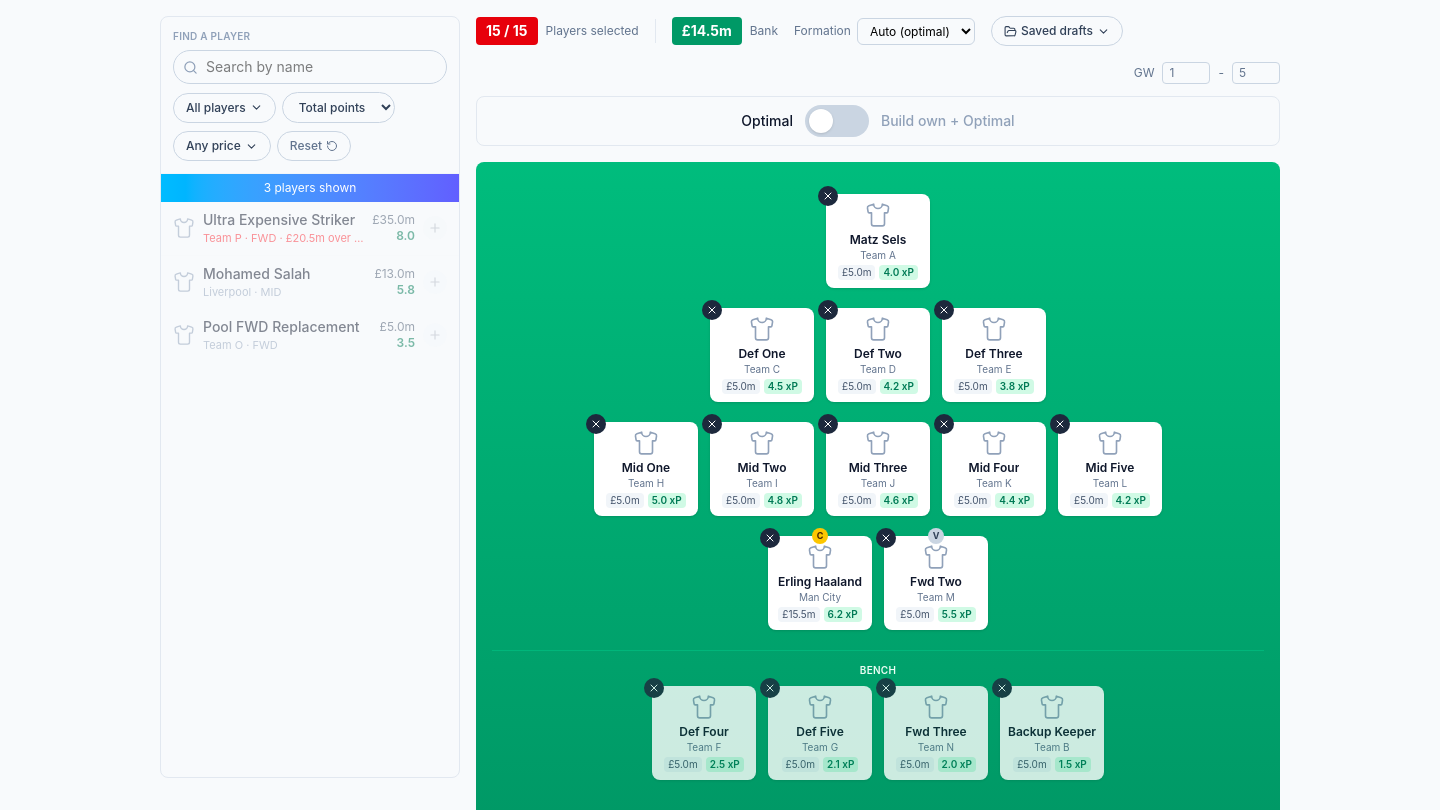
Test: SquadBuilder › removing a player empties that slot and shows a notification
Click the button named "Remove Erling Haaland".
click(770, 538)  # box [760, 528, 780, 548]
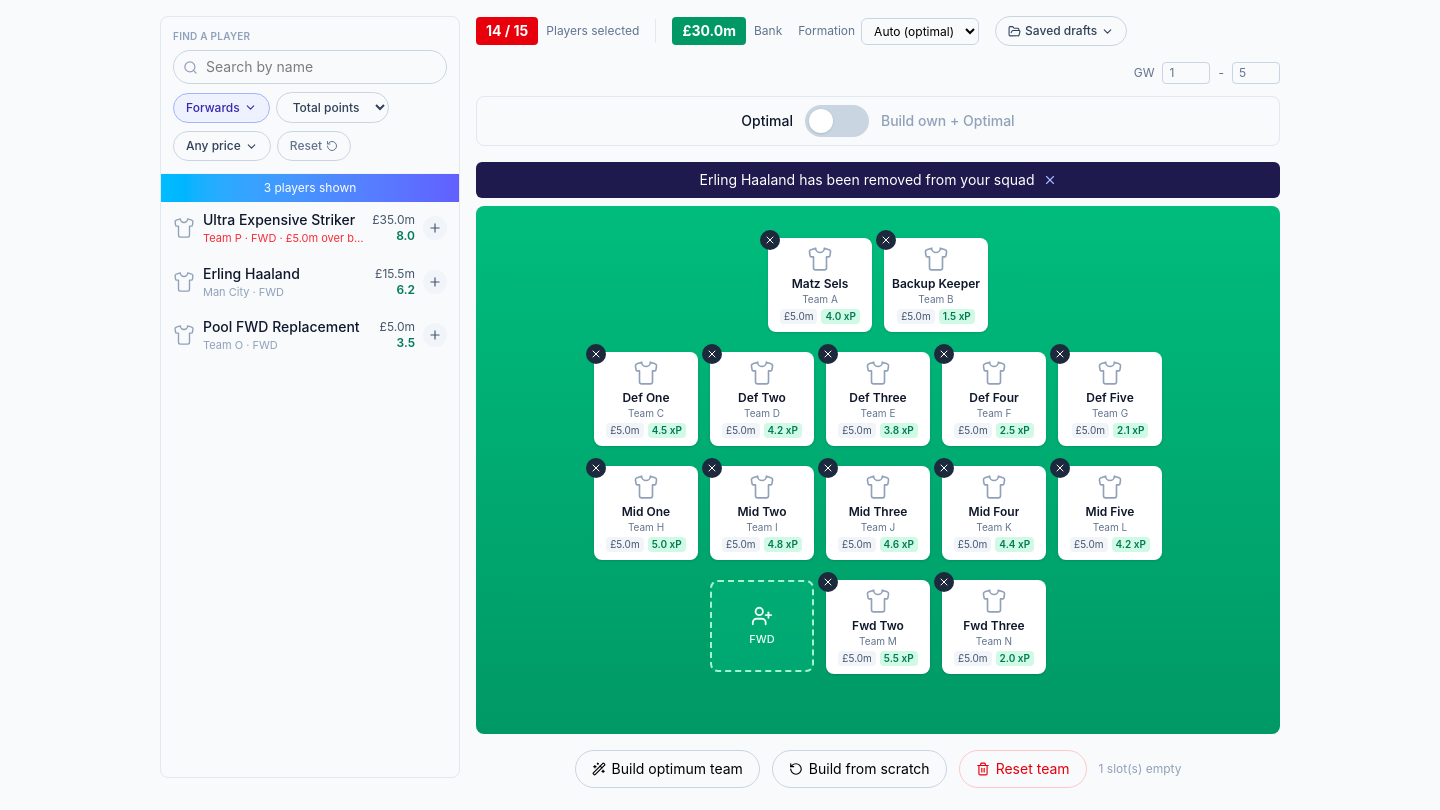
Now the text "Erling Haaland has been removed from your squad" is shown, box [476, 162, 1280, 198]
Now the text "14 / 15" is shown, box [476, 17, 538, 45]
Now the text "£30.0m" is shown, box [672, 17, 746, 45]
